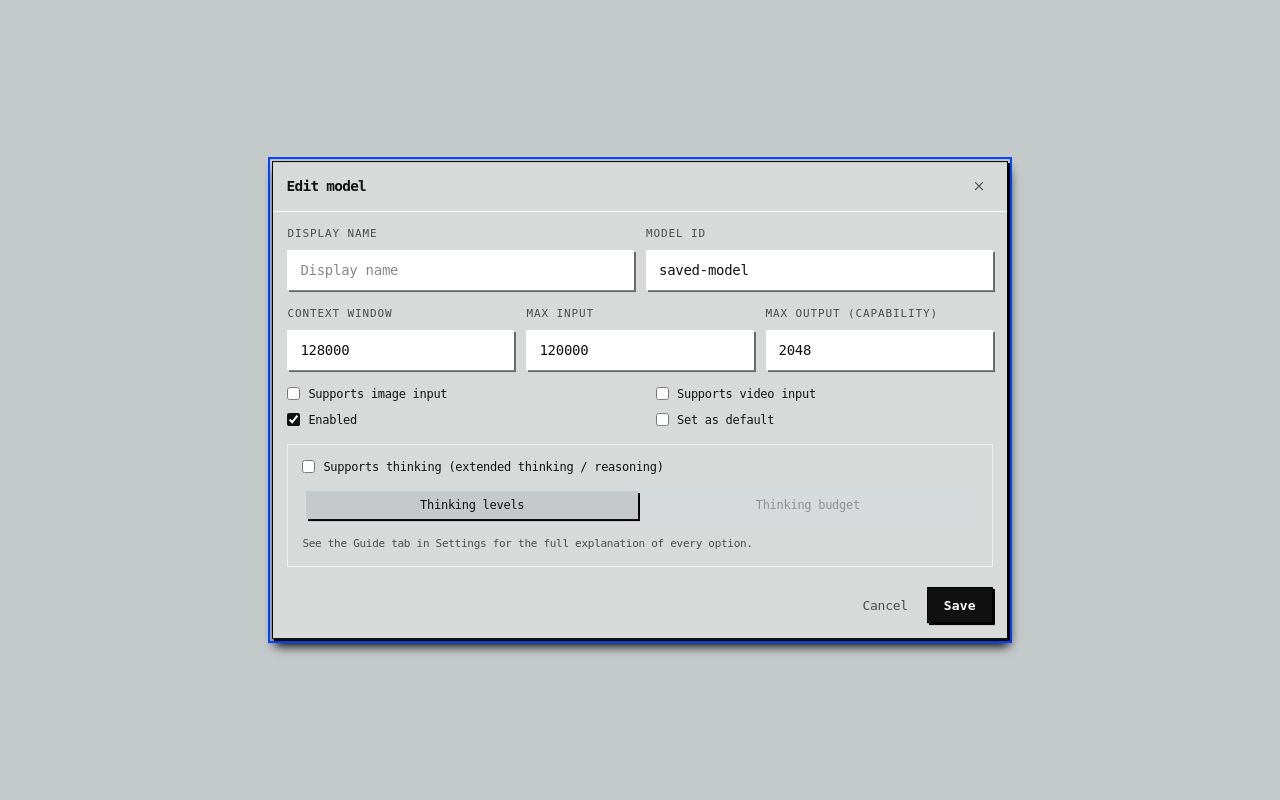
Test: ModelModal thinking cluster › keeps the mode tabs disabled and the level control hidden until thinking is on
Expected: the text "Custom thinking levels" is not shown
Expected: the tab "Thinking budget" is disabled, [642,491,974,519]
Click the checkbox labelled "Supports thinking (extended thinking / reasoning)" at [309, 467], box [302,460,315,473]
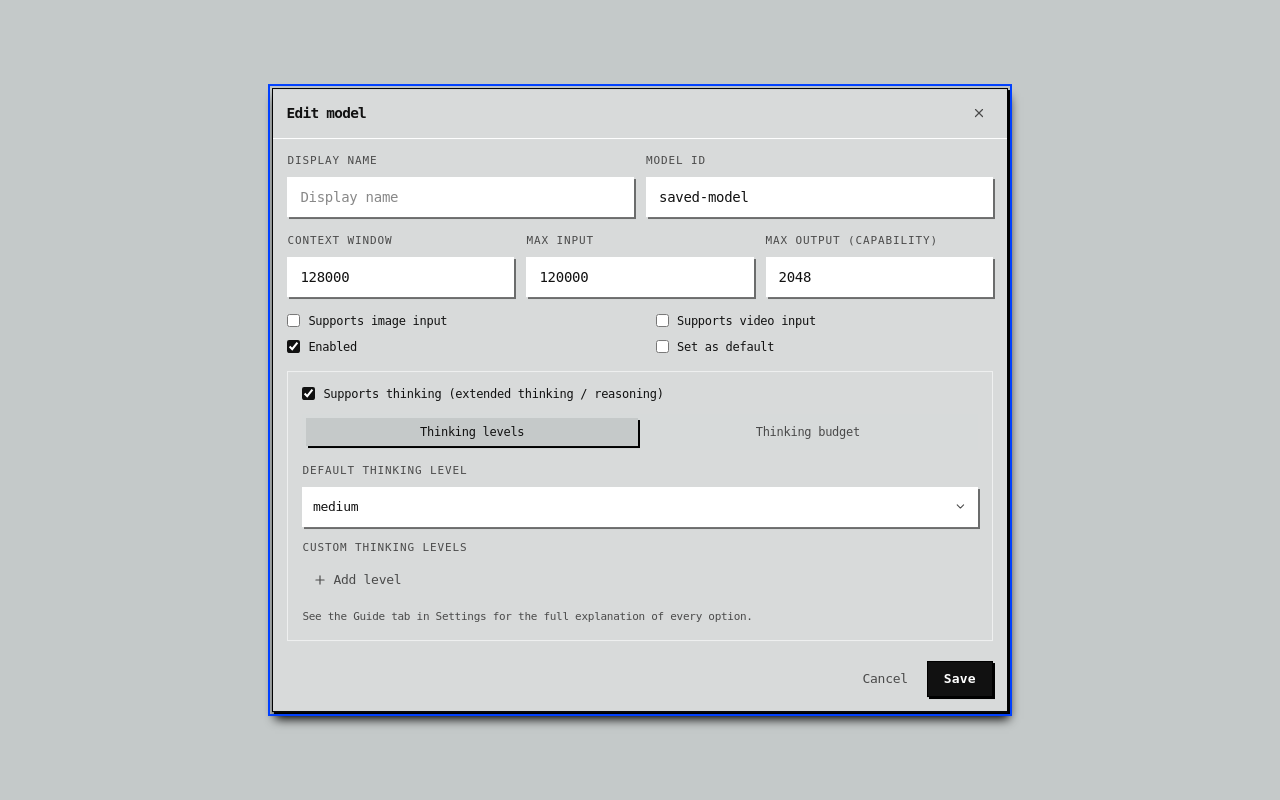
Expected: the text "Custom thinking levels" is shown, [302,541,468,554]
Expected: the tab "Thinking budget" is enabled, [642,418,974,446]
